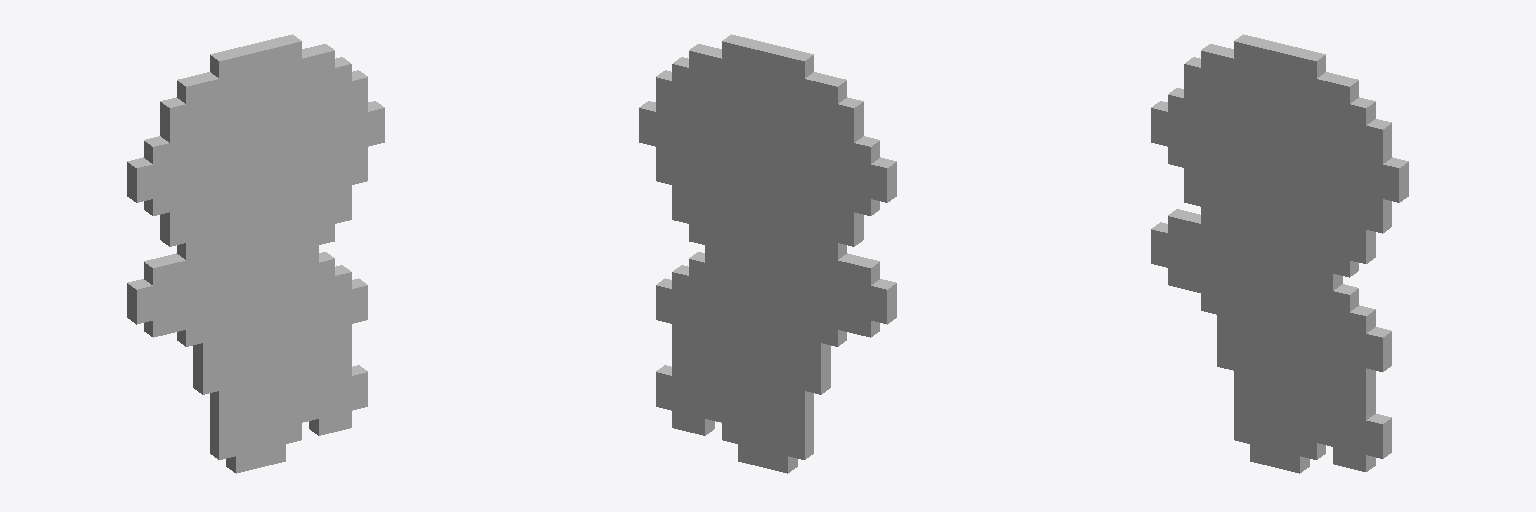
The model's file is бросок.obj.
3 views of the same model, side by side, from view 1: azimuth 30°, elevation 25°; view 2: azimuth 150°, elevation 25°; view 3: azimuth 330°, elevation 25° (orthographic).
Visible parts, largest first — view 1: object 1; view 2: object 1; view 3: object 1.
Part boxes in pixels (x1,y1,x2,y2): object 1: (127, 34, 384, 473); object 1: (639, 34, 896, 473); object 1: (1151, 34, 1408, 473).
Bounding box in the file's own units: 1.5 × 2.4 × 0.1.